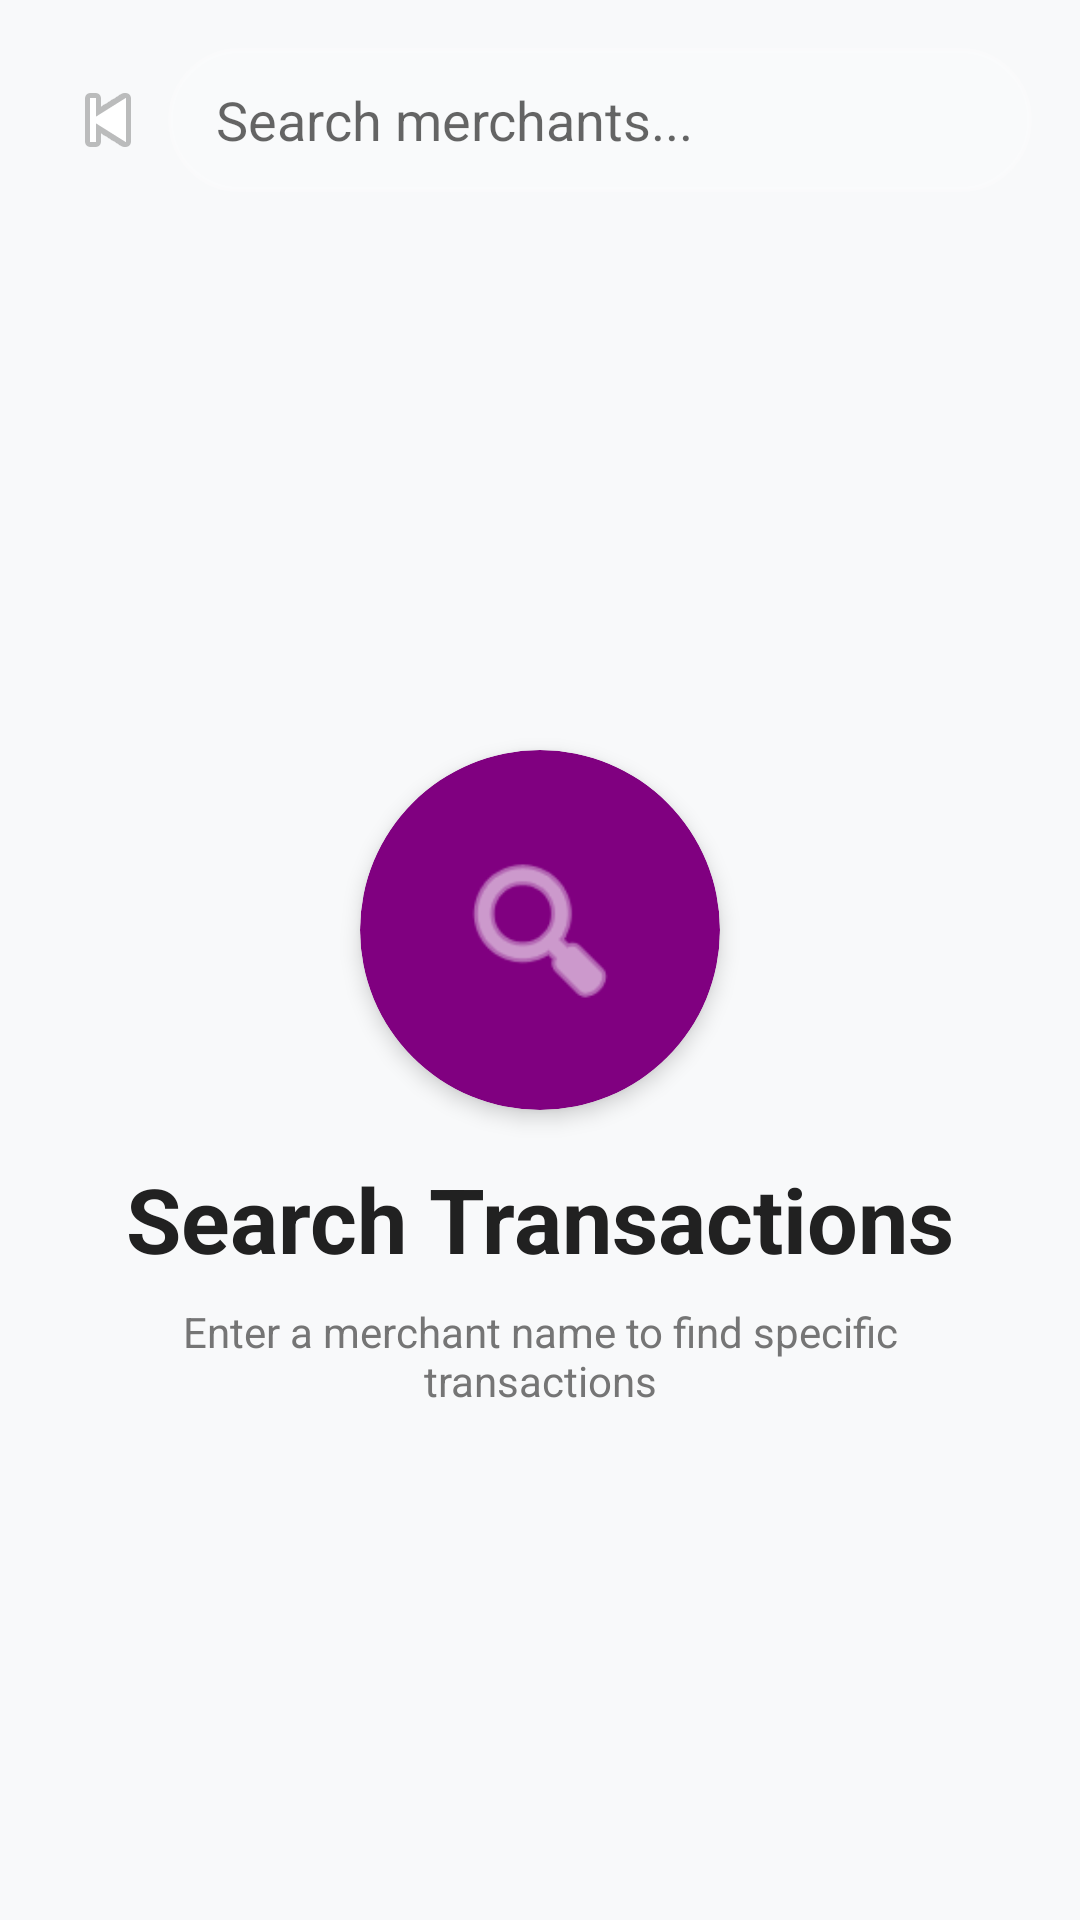

Icon click points for this 1080×1920 phone screenshot, format [x,y]:
Back: [108,120]
